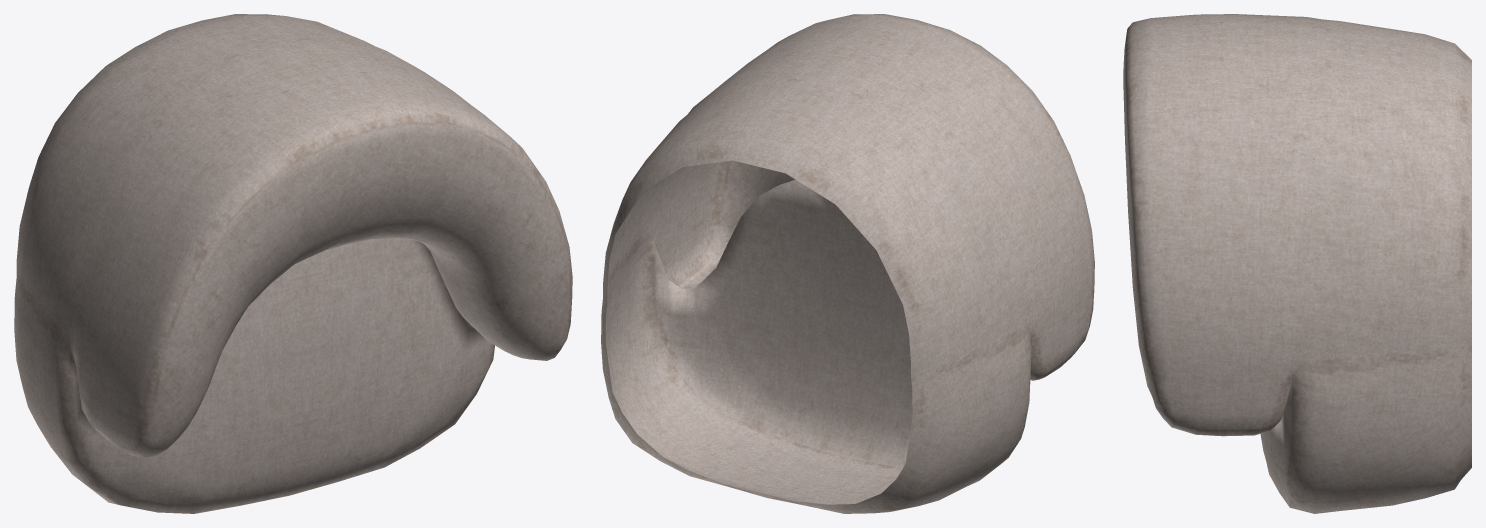
The model's file is armchair-poppi-fc7e91.glb.
The picture shows the model from 3 angles, left to right: view 1: azimuth 30°, elevation 25°; view 2: azimuth 150°, elevation 25°; view 3: azimuth 270°, elevation 25°; orthographic projection. The views are drawn at different scales.
Visible parts, largest first — view 1: PropMesh; view 2: PropMesh; view 3: PropMesh.
Part boxes in pixels (box(x1,y1,x2,y2)): PropMesh: box(14, 14, 572, 513); PropMesh: box(601, 14, 1094, 513); PropMesh: box(1123, 14, 1471, 513).
Bounding box in the file's own units: 2.28 × 2.2 × 1.64.
1 material, 1 textured.
